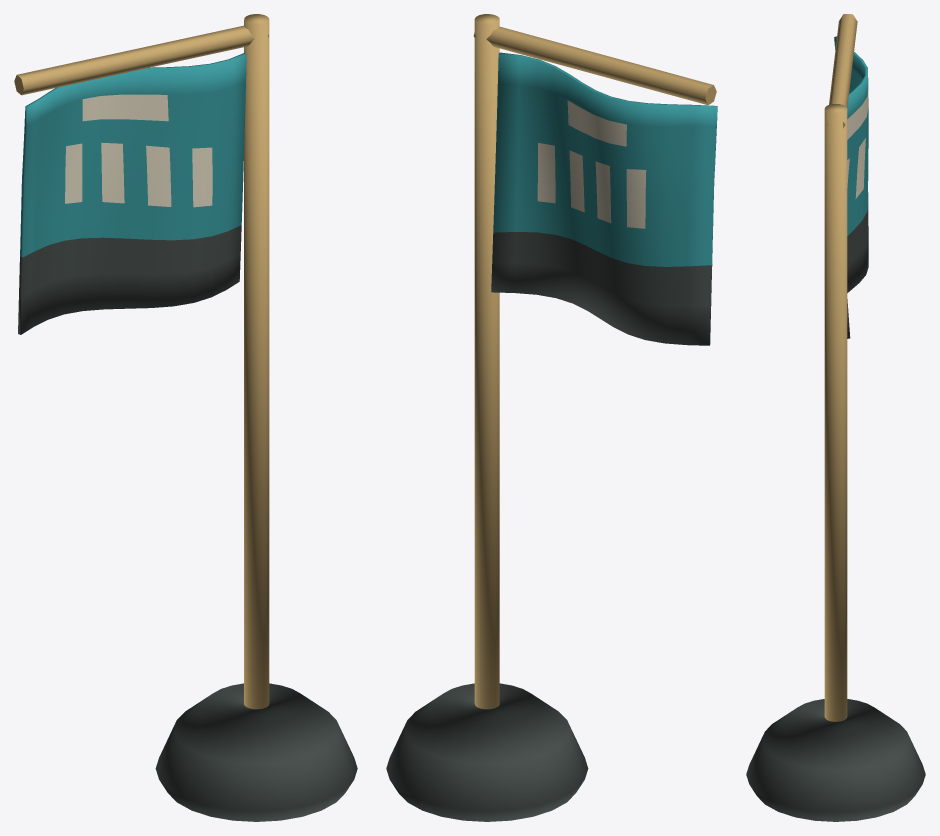
The model's file is fanflag.steppe-sails.glb.
3 renders of one model, left to right at view 1: azimuth 30°, elevation 25°; view 2: azimuth 150°, elevation 25°; view 3: azimuth 270°, elevation 25°, orthographic. The views are drawn at different scales.
Visible parts, largest first — view 1: Weighted pedestal; view 2: Weighted pedestal; view 3: Weighted pedestal.
Boxes of the visible parts, x1,y1,x2,y2 form: Weighted pedestal: [14, 14, 357, 821]; Weighted pedestal: [386, 14, 717, 821]; Weighted pedestal: [746, 14, 925, 821].
Bounding box in the file's own units: 0.8011 × 1.84 × 0.44.
